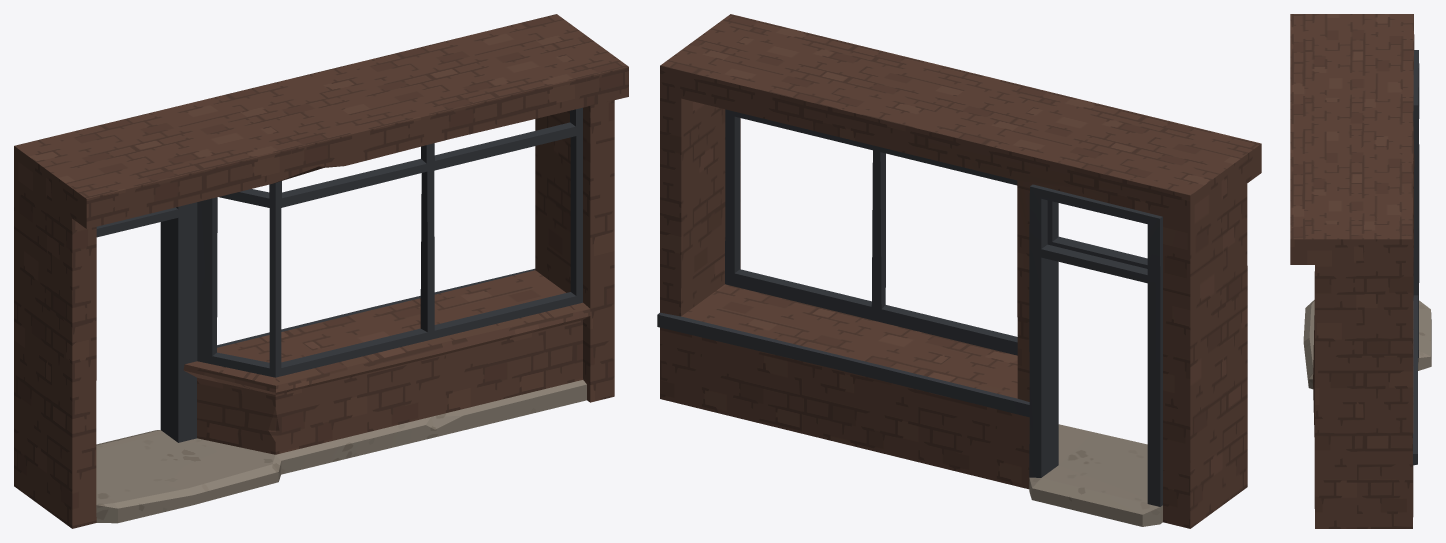
Rendered from SM_Bld_ShopFront_07.obj.
3 views of the same model, side by side, from view 1: azimuth 30°, elevation 25°; view 2: azimuth 150°, elevation 25°; view 3: azimuth 270°, elevation 25° (orthographic). The views are drawn at different scales.
Visible parts, largest first — view 1: SM_Bld_ShopFront_07_1, SM_Bld_ShopFront_07_0, SM_Bld_ShopFront_07_2, SM_Bld_ShopFront_07_3; view 2: SM_Bld_ShopFront_07_3, SM_Bld_ShopFront_07_1, SM_Bld_ShopFront_07_0, SM_Bld_ShopFront_07_2; view 3: SM_Bld_ShopFront_07_1, SM_Bld_ShopFront_07_0, SM_Bld_ShopFront_07_2, SM_Bld_ShopFront_07_3.
Boxes of the visible parts, x1,y1,x2,y2 form: SM_Bld_ShopFront_07_1: [14, 14, 628, 528]; SM_Bld_ShopFront_07_0: [96, 107, 582, 442]; SM_Bld_ShopFront_07_2: [96, 380, 586, 523]; SM_Bld_ShopFront_07_3: [217, 111, 570, 362]; SM_Bld_ShopFront_07_3: [660, 65, 1190, 528]; SM_Bld_ShopFront_07_1: [660, 14, 1261, 528]; SM_Bld_ShopFront_07_0: [657, 109, 1162, 506]; SM_Bld_ShopFront_07_2: [1029, 424, 1162, 526]; SM_Bld_ShopFront_07_1: [1290, 14, 1413, 528]; SM_Bld_ShopFront_07_0: [1413, 50, 1419, 465]; SM_Bld_ShopFront_07_2: [1303, 300, 1431, 389]; SM_Bld_ShopFront_07_3: [1413, 34, 1414, 516].
Size of the model in its own units: 5 by 3 by 1.32.
Materials: 4 (4 with a texture image).
